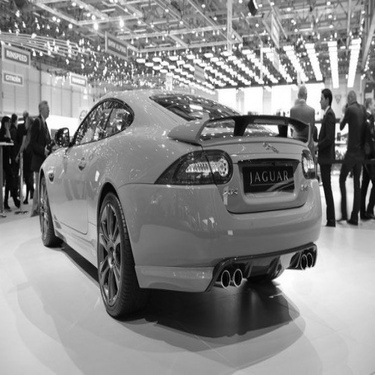car: (23, 77, 327, 328)
